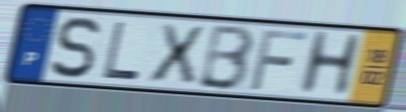B: (195, 23, 258, 94)
F: (248, 27, 311, 93)
H: (295, 29, 366, 97)
L: (100, 19, 142, 82)
S: (48, 15, 103, 81)
X: (146, 21, 207, 85)
